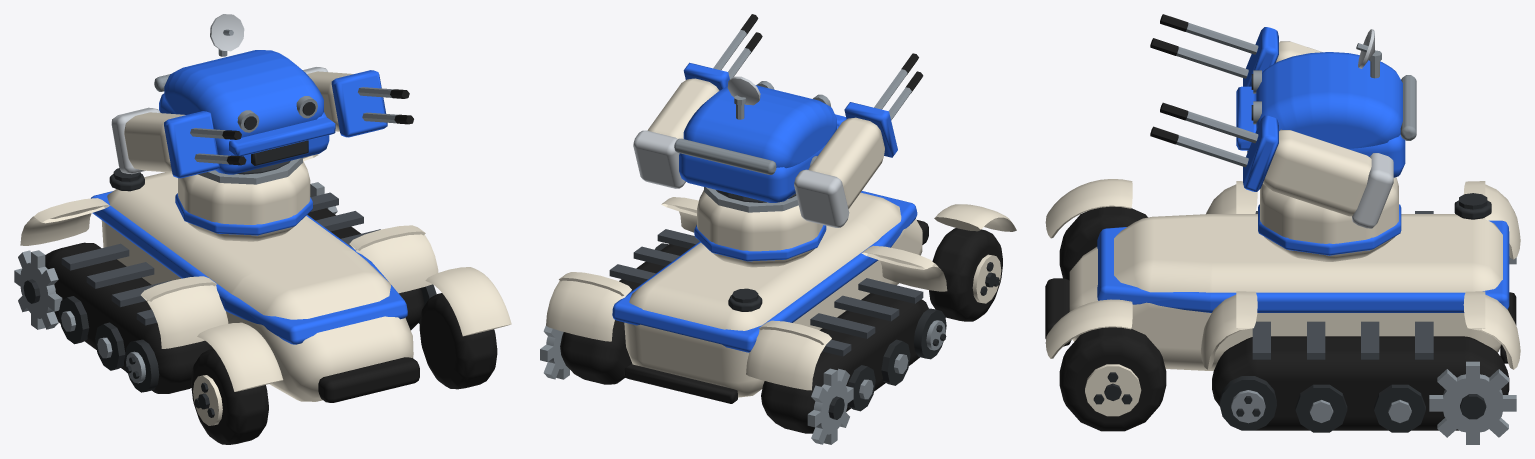
File: flak_track.glb
The picture shows the model from 3 angles, left to right: view 1: azimuth 30°, elevation 25°; view 2: azimuth 150°, elevation 25°; view 3: azimuth 270°, elevation 25°; orthographic projection. The views are drawn at different scales.
Visible parts, largest first — view 1: hull__M_CreamPlastic, turret__M_Team, gear__M_Licorice, hull__M_Team, wheel_l0__M_Licorice, wheel_r0__M_Licorice, steer_r0__M_CreamPlastic, steer_l0__M_CreamPlastic, hull__M_Licorice, tread_r__M_SmokePlastic, barrel_l__M_Team, barrel_r__M_Team (+16 smaller); view 2: hull__M_CreamPlastic, turret__M_Team, gear__M_Licorice, hull__M_Team, wheel_r0__M_Licorice, barrel_r__M_CreamPlastic, tread_r__M_SmokePlastic, barrel_r__M_Foil, barrel_l__M_Foil, sprocket_r__M_SpringSteel, barrel_l__M_CreamPlastic, hull__M_Licorice (+15 smaller); view 3: hull__M_CreamPlastic, gear__M_Licorice, turret__M_Team, hull__M_Team, wheel_l0__M_Licorice, barrel_l__M_CreamPlastic, sprocket_l__M_SpringSteel, gear__M_Dark, tread_l__M_SmokePlastic, wheel_r0__M_Licorice, steer_l0__M_CreamPlastic, steer_r0__M_CreamPlastic (+17 smaller).
Part boxes in pixels (x1,y1,x2,y2): hull__M_CreamPlastic: (20, 154, 438, 401); turret__M_Team: (159, 50, 335, 174); gear__M_Licorice: (45, 196, 424, 393); hull__M_Team: (91, 191, 407, 344); wheel_l0__M_Licorice: (419, 293, 497, 389); wheel_r0__M_Licorice: (191, 348, 268, 444); steer_r0__M_CreamPlastic: (197, 322, 283, 391); steer_l0__M_CreamPlastic: (425, 267, 511, 336); hull__M_Licorice: (318, 357, 419, 402); tread_r__M_SmokePlastic: (61, 243, 171, 325); barrel_l__M_Team: (331, 70, 387, 137); barrel_r__M_Team: (164, 111, 219, 178); hull__M_CreamPlastic: (546, 190, 947, 397); turret__M_Team: (679, 85, 846, 202); gear__M_Licorice: (560, 244, 928, 433); hull__M_Team: (612, 191, 917, 352); wheel_r0__M_Licorice: (929, 228, 1002, 321); barrel_r__M_CreamPlastic: (808, 117, 884, 208); tread_r__M_SmokePlastic: (810, 278, 923, 356); barrel_r__M_Foil: (794, 169, 849, 227); barrel_l__M_Foil: (633, 130, 685, 188); sprocket_r__M_SpringSteel: (807, 368, 853, 444); barrel_l__M_CreamPlastic: (647, 78, 719, 138); hull__M_Licorice: (624, 220, 928, 403); hull__M_CreamPlastic: (1069, 177, 1520, 370); gear__M_Licorice: (1212, 336, 1509, 430); turret__M_Team: (1236, 52, 1405, 177); hull__M_Team: (1097, 204, 1509, 312); wheel_l0__M_Licorice: (1059, 327, 1166, 431); barrel_l__M_CreamPlastic: (1263, 129, 1371, 216); sprocket_l__M_SpringSteel: (1429, 361, 1516, 444); gear__M_Dark: (1295, 384, 1425, 432); tread_l__M_SmokePlastic: (1252, 321, 1433, 359); wheel_r0__M_Licorice: (1059, 206, 1147, 280); steer_l0__M_CreamPlastic: (1045, 299, 1132, 358); steer_r0__M_CreamPlastic: (1045, 179, 1132, 238).
Size of the model in its own units: 0.696 by 0.6893 by 0.8778.
